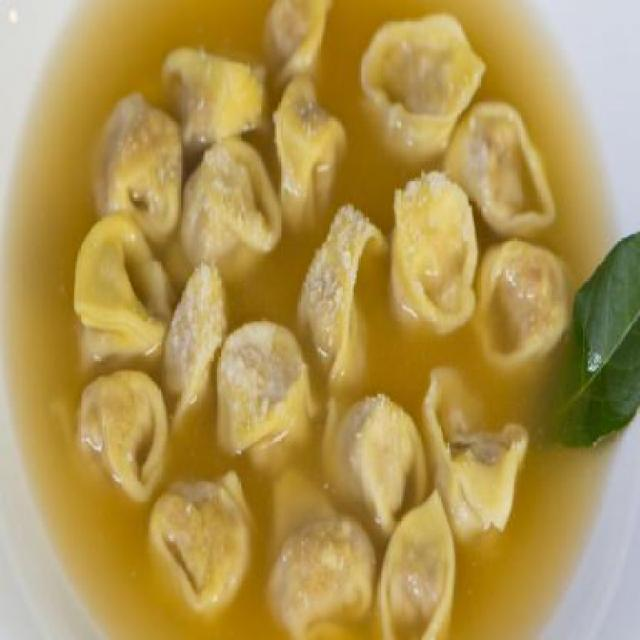Tortellini in broth: (91, 18, 560, 586)
